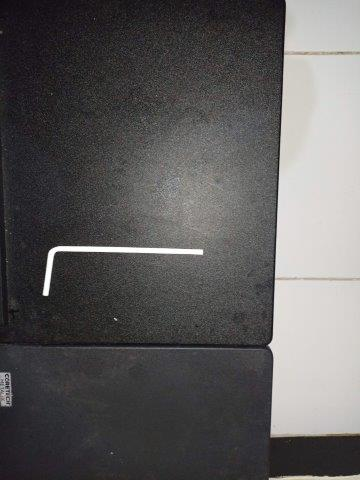sedotan: (42, 245, 203, 296)
